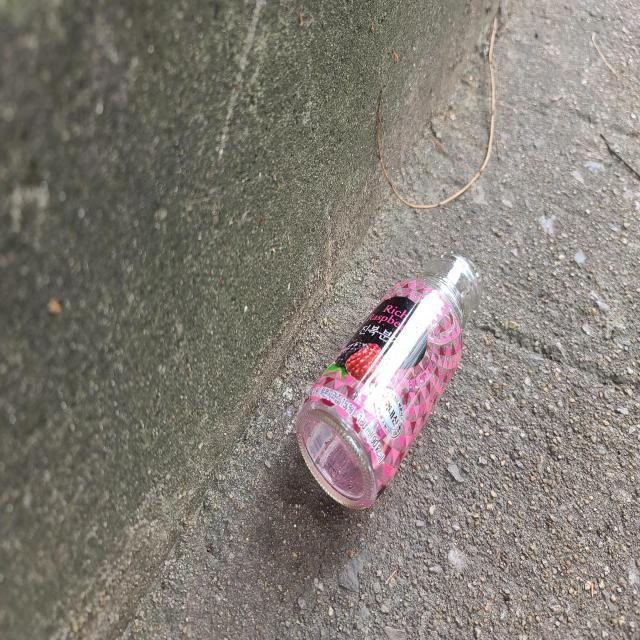glass: (296, 254, 481, 510)
